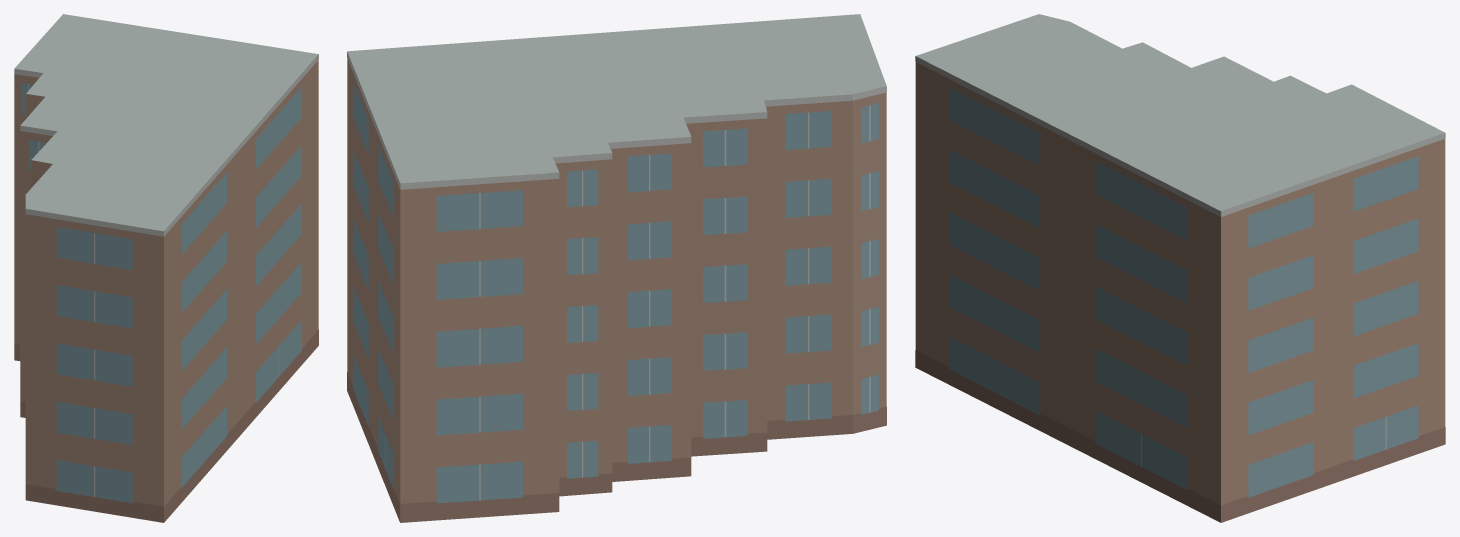
File: survey-upis-32852019.glb
3 renders of one model, left to right at view 1: azimuth 30°, elevation 25°; view 2: azimuth 150°, elevation 25°; view 3: azimuth 270°, elevation 25°, orthographic. The views are drawn at different scales.
Visible parts, largest first — view 1: survey-upis-32852019.tmp; view 2: survey-upis-32852019.tmp; view 3: survey-upis-32852019.tmp.
Part boxes in pixels (<box>): survey-upis-32852019.tmp: <box>14,14,318,522</box>; survey-upis-32852019.tmp: <box>347,14,886,522</box>; survey-upis-32852019.tmp: <box>915,14,1445,522</box>.
Bounding box in the file's own units: 17.94 × 13.2 × 20.36.
